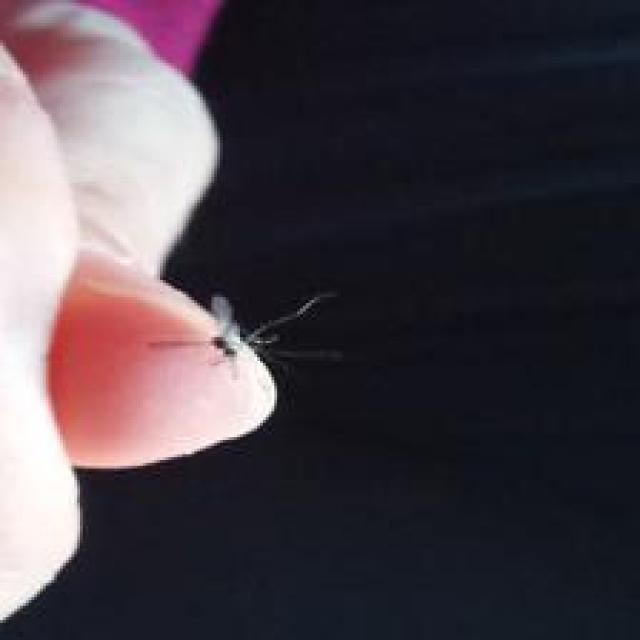Aedes albopictus: (146, 290, 340, 381)
